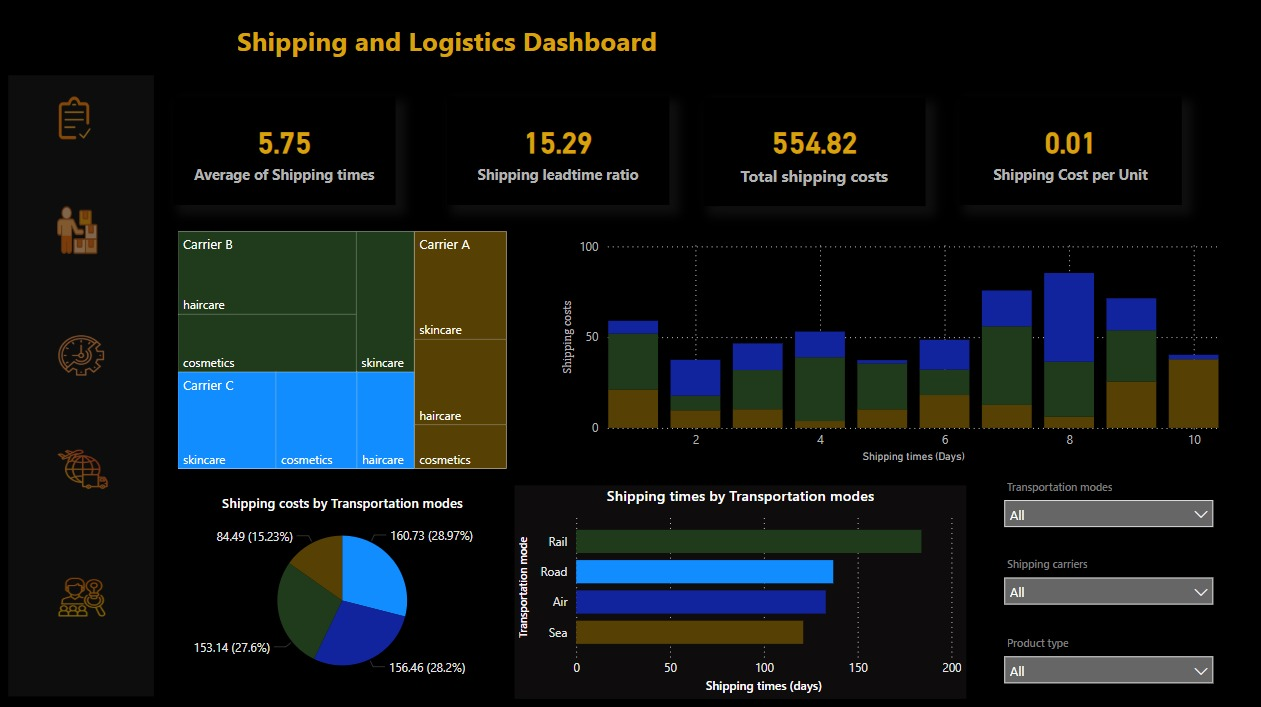

The dashboard page shown, as its layout file describes it:
{"tool":"powerbi","page":{"name":"Shipping and logistics dashboard","canvas":[1280,720],"ordinal":3},"visuals":[{"type":"shape","box":[11,76.8,147.2,628.1],"z":0},{"type":"actionButton","box":[59.4,98.6,37.6,43.9],"z":0,"group":"g1"},{"type":"textbox","box":[159.2,19,591.5,67],"z":1000},{"type":"card","fields":{"Values":["Avg(supply_chain_data (2).Shipping times)"]},"box":[178.2,98.9,224.6,109.8],"z":3000},{"type":"actionButton","box":[60.7,207.3,40.4,53.1],"z":3000,"group":"g1"},{"type":"card","fields":{"Values":["supply_chain_data (2).Total shipping costs"]},"box":[714.5,99.7,224.7,109.8],"z":4000},{"type":"actionButton","box":[61.9,340,46.8,40.4],"z":4000,"group":"g1"},{"type":"card","fields":{"Values":["supply_chain_data (2).Average shipping ratio"]},"box":[454.4,98.5,224.7,109.8],"z":5000},{"type":"actionButton","box":[60.7,585.2,50.6,39.2],"z":5000,"group":"g1"},{"type":"card","fields":{"Values":["supply_chain_data (2).Shipping Cost per Unit"]},"box":[972.7,98.9,224.6,109.8],"z":6000},{"type":"actionButton","box":[60.7,455,51.8,40.4],"z":6000,"group":"g1"},{"type":"treemap","fields":{"Values":["Sum(supply_chain_data (2).Shipping costs)"],"Group":["supply_chain_data (2).Shipping carriers"],"Details":["supply_chain_data (2).Product type"]},"box":[178,229.7,342.1,249.9],"z":7000},{"type":"lineStackedColumnComboChart","title":" Shipping costs by Shipping times and Shipping carriers","fields":{"Category":["supply_chain_data (2).Shipping times"],"Y":["Sum(supply_chain_data (2).Shipping costs)"],"Series":["supply_chain_data (2).Shipping carriers"]},"box":[566.8,236.1,674.1,237.3],"z":8000},{"type":"pieChart","title":" Shipping costs by Transportation modes","fields":{"Y":["Sum(supply_chain_data (2).Shipping costs)"],"Category":["supply_chain_data (2).Transportation modes"]},"box":[178,499.9,342.1,198.2],"z":9000},{"type":"clusteredBarChart","title":"Shipping times by Transportation modes","fields":{"Category":["supply_chain_data (2).Transportation modes"],"Y":["Sum(supply_chain_data (2).Shipping times)"]},"box":[522.6,491,457,215.9],"z":10000},{"type":"slicer","fields":{"Values":["supply_chain_data (2).Transportation modes"]},"box":[1007.3,479.7,233.5,79.5],"z":11000},{"type":"slicer","fields":{"Values":["supply_chain_data (2).Shipping carriers"]},"box":[1007.3,559.2,233.5,79.5],"z":12000},{"type":"slicer","fields":{"Values":["supply_chain_data (2).Product type"]},"box":[1007.3,638.7,233.5,79.5],"z":13000},{"type":"group","id":"g1","title":"Group 1","box":[59.4,98.6,53.1,525.8],"z":13001}]}

Visuals, with their boxes in screenshot pixels (x1, y1, x2, y2), scaled from the page's 1280x720 canvas onto the 1261x707 screenshot:
shape: BBox(11, 75, 156, 692)
actionButton: BBox(59, 97, 96, 140)
textbox: BBox(157, 19, 740, 84)
card - Avg(supply_chain_data (2).Shipping times): BBox(176, 97, 397, 205)
actionButton: BBox(60, 204, 100, 256)
card - supply_chain_data (2).Total shipping costs: BBox(704, 98, 925, 206)
actionButton: BBox(61, 334, 107, 374)
card - supply_chain_data (2).Average shipping ratio: BBox(448, 97, 669, 205)
actionButton: BBox(60, 575, 110, 613)
card - supply_chain_data (2).Shipping Cost per Unit: BBox(958, 97, 1180, 205)
actionButton: BBox(60, 447, 111, 486)
treemap - Sum(supply_chain_data (2).Shipping costs) x supply_chain_data (2).Shipping carriers: BBox(175, 226, 512, 471)
" Shipping costs by Shipping times and Shipping carriers" lineStackedColumnComboChart: BBox(558, 232, 1222, 465)
" Shipping costs by Transportation modes" pieChart: BBox(175, 491, 512, 685)
"Shipping times by Transportation modes" clusteredBarChart: BBox(515, 482, 965, 694)
slicer - supply_chain_data (2).Transportation modes: BBox(992, 471, 1222, 549)
slicer - supply_chain_data (2).Shipping carriers: BBox(992, 549, 1222, 627)
slicer - supply_chain_data (2).Product type: BBox(992, 627, 1222, 705)
"Group 1" group: BBox(59, 97, 111, 613)
